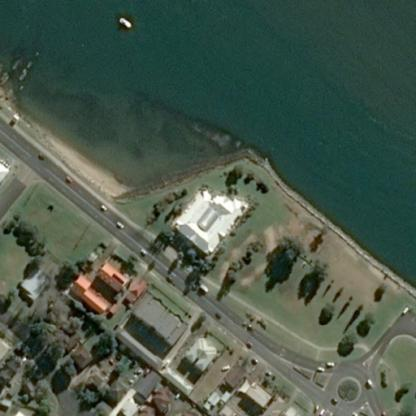ship: (117, 16, 131, 28)
